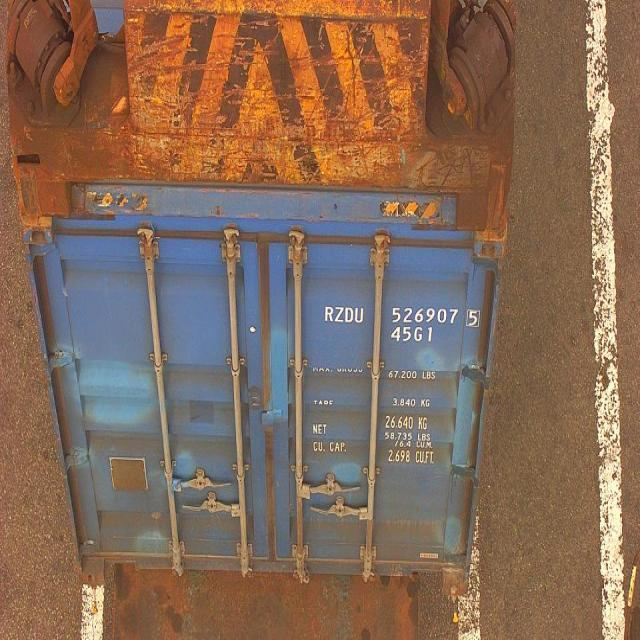ISO: (391, 326, 436, 344)
container_number: (327, 306, 476, 326)
